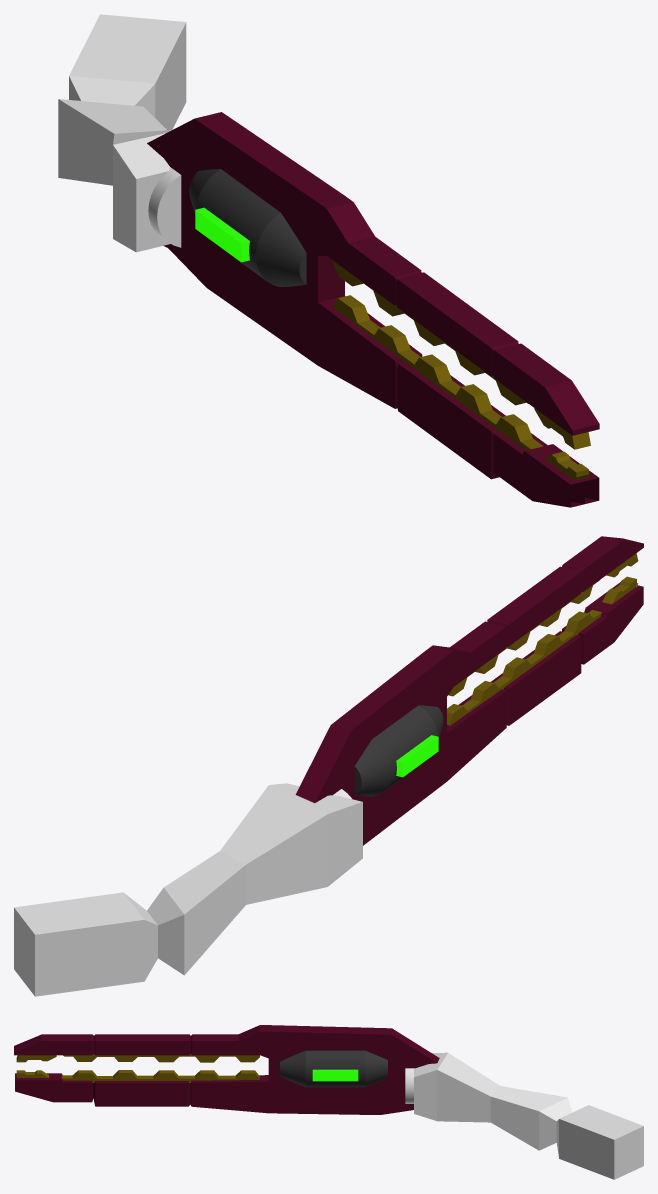
The model's file is rail gun.glb.
3 renders of one model, top to bottom at view 1: azimuth 30°, elevation 25°; view 2: azimuth 150°, elevation 25°; view 3: azimuth 270°, elevation 25°, orthographic. The views are drawn at different scales.
Parts seen in each view (by area): view 1: gun, Cube, teeth, Cylinder, plug, energy; view 2: Cube, gun, teeth, Cylinder, energy; view 3: gun, Cube, Cylinder, teeth, energy, plug.
Boxes of the visible parts, x1,y1,x2,y2 form: gun: (147, 112, 599, 507); Cube: (58, 14, 186, 252); teeth: (333, 261, 590, 480); Cylinder: (189, 169, 306, 287); plug: (148, 167, 181, 247); energy: (195, 207, 249, 262); Cube: (14, 783, 362, 996); gun: (295, 536, 643, 845); teeth: (447, 553, 638, 726); Cylinder: (354, 705, 443, 796); energy: (396, 735, 438, 777); gun: (14, 1025, 439, 1114); Cube: (414, 1052, 643, 1179); Cylinder: (280, 1050, 387, 1087); teeth: (16, 1054, 259, 1082); energy: (312, 1069, 358, 1081); plug: (405, 1068, 414, 1103).
Bounding box in the file's own units: 1.37 × 1.07 × 5.96.
